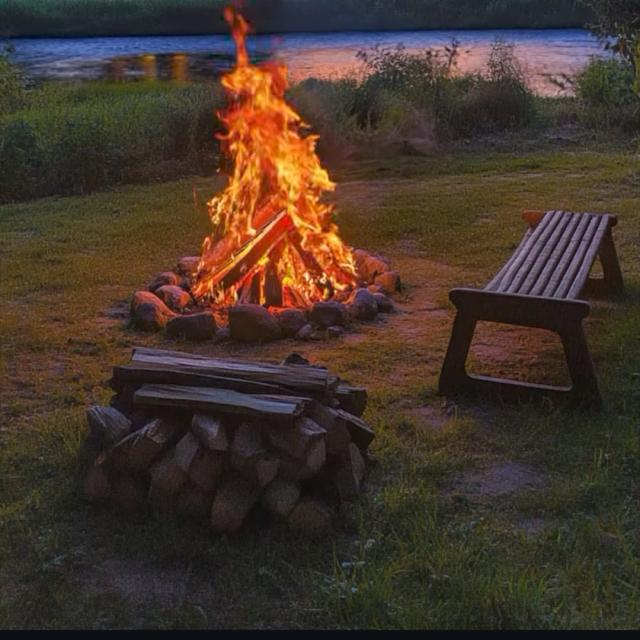fire: (189, 0, 357, 307)
